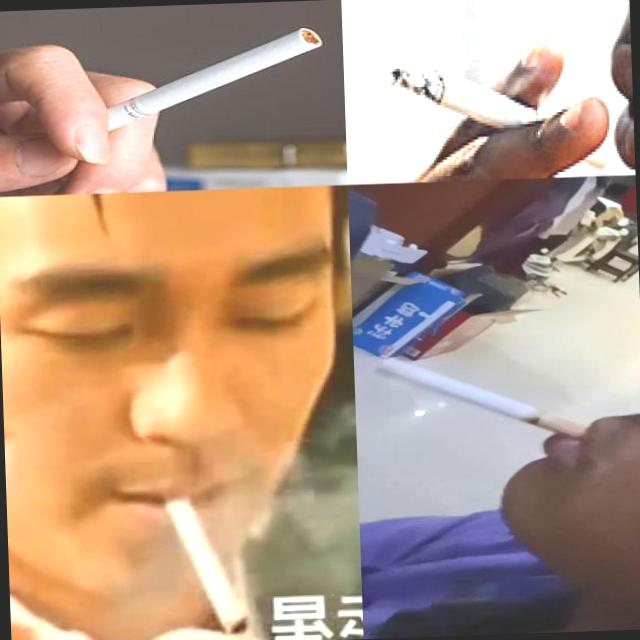smoke: (61, 26, 327, 140), (387, 54, 610, 179), (373, 351, 590, 450), (164, 491, 250, 636)
